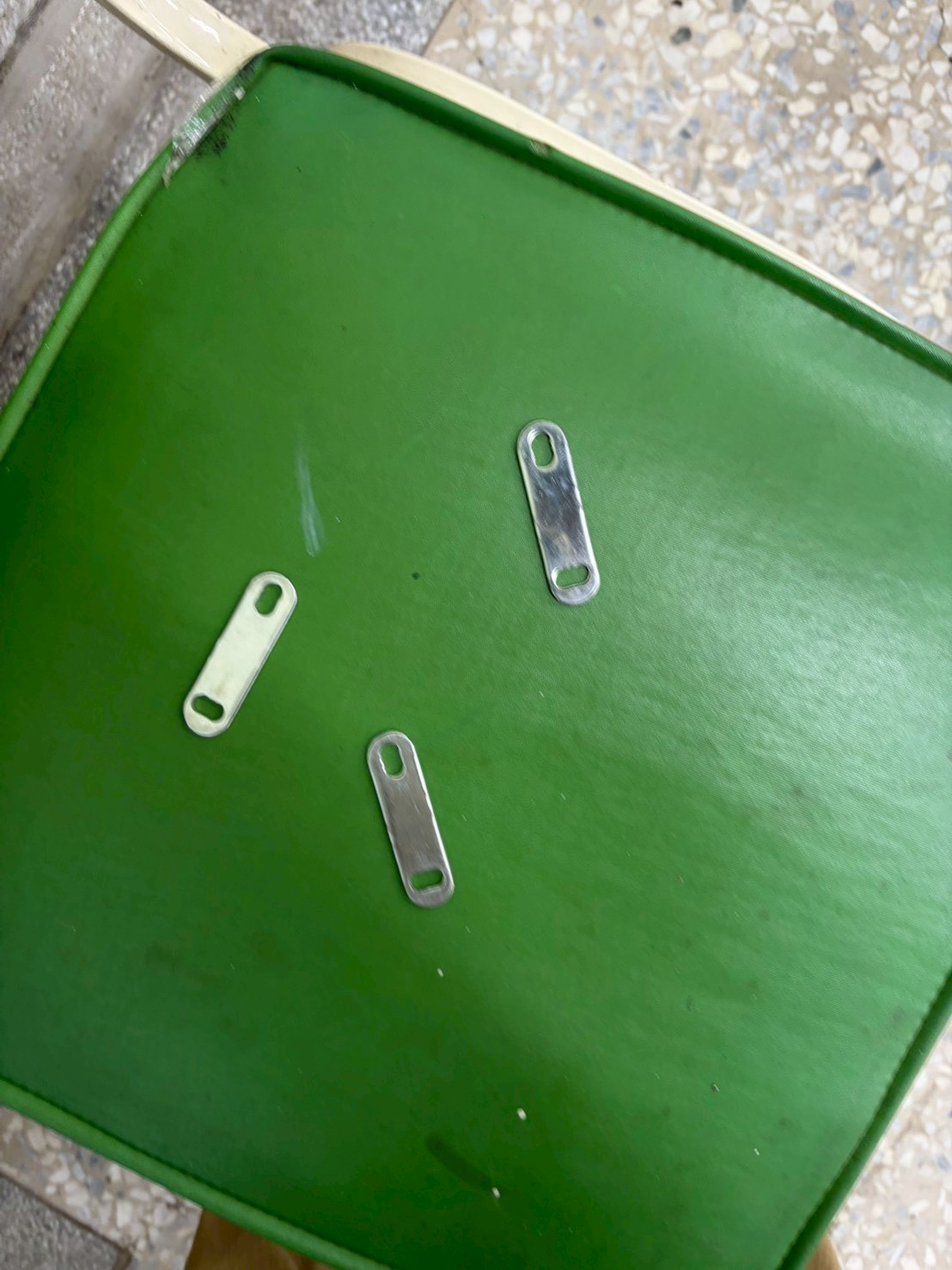Fe: (173, 576, 306, 740), (510, 423, 616, 606), (368, 732, 469, 900)
